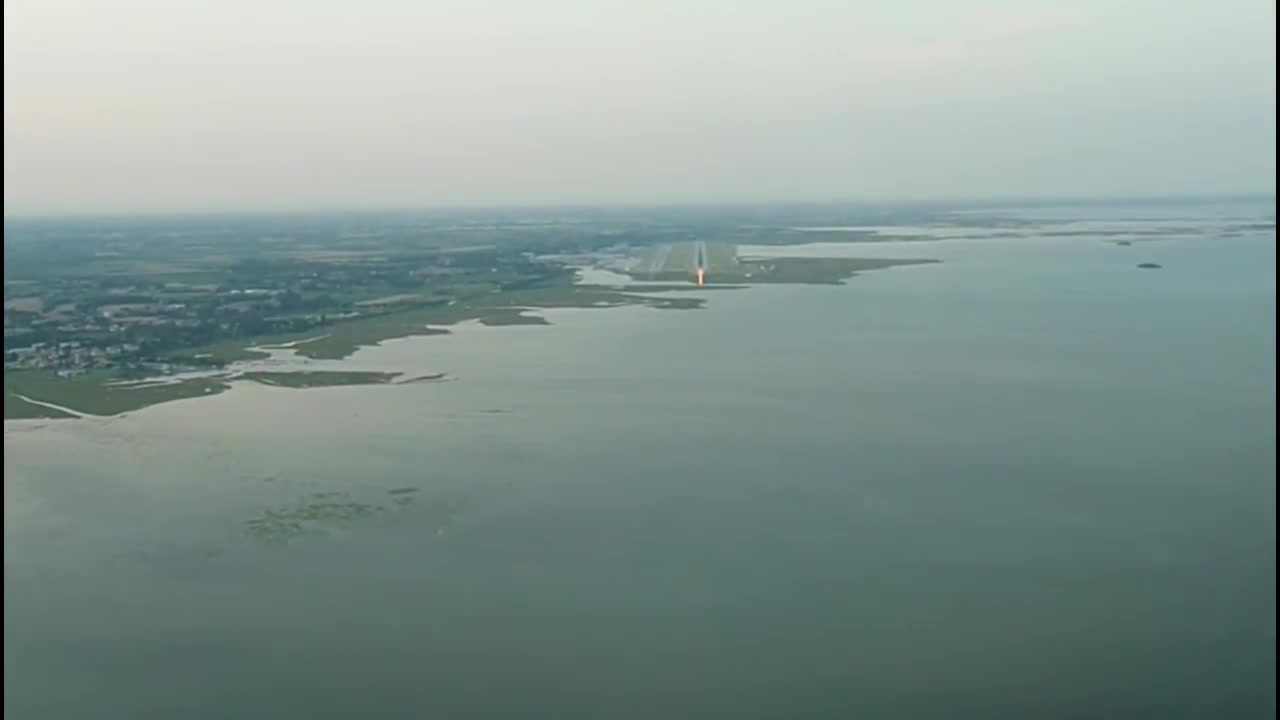runway: (645, 243, 673, 277), (689, 241, 710, 271)
